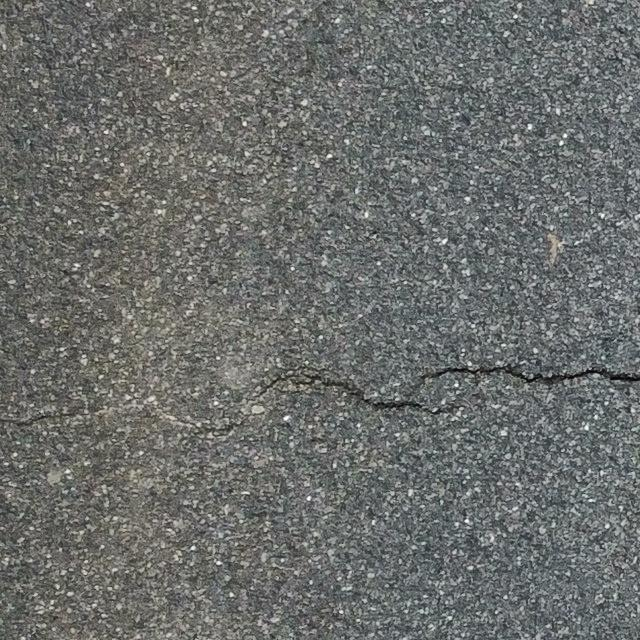TransverseCrack: (240, 366, 640, 415)
